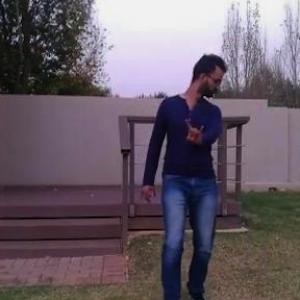takeoff-hand: (179, 110, 211, 147)
